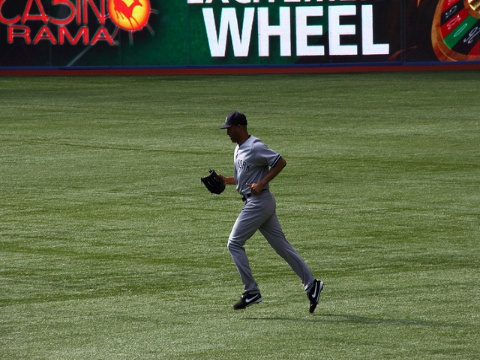hand: (244, 180, 266, 194)
